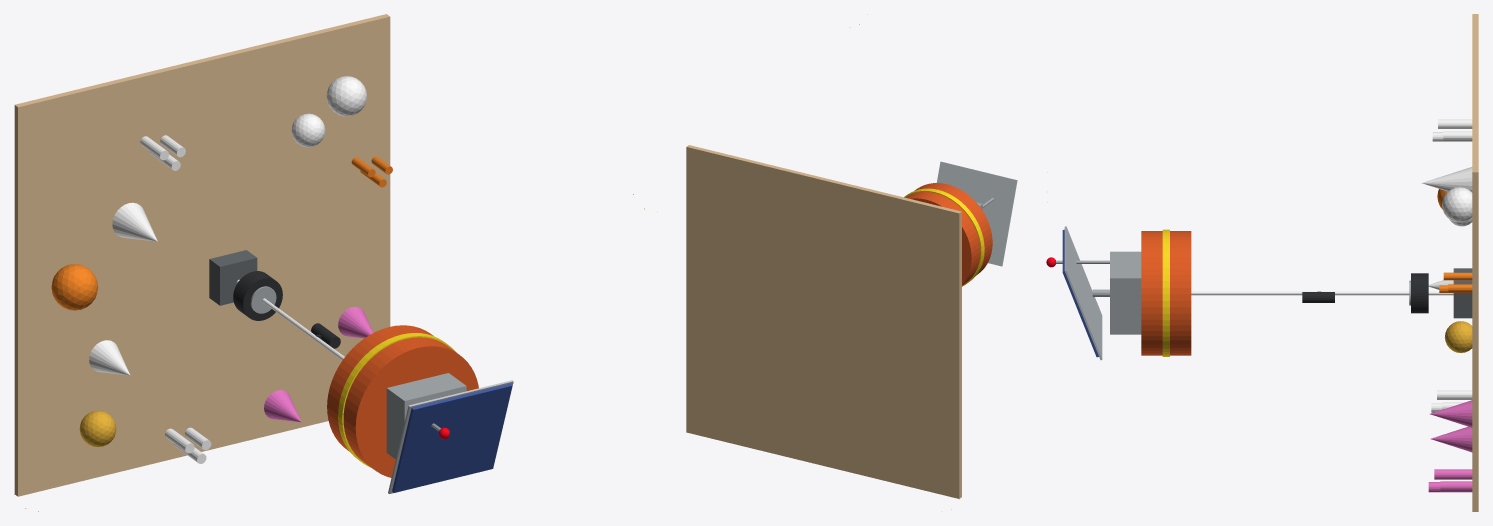
Rendered from tinker.obj.
3 renders of one model, left to right at view 1: azimuth 30°, elevation 25°; view 2: azimuth 150°, elevation 25°; view 3: azimuth 270°, elevation 25°, orthographic. The views are drawn at different scales.
Visible parts, largest first — view 1: obj_0, obj_9, obj_12, obj_1, obj_11, obj_3, obj_5, obj_7, obj_2, obj_10, obj_4, obj_13; view 2: obj_0, obj_13, obj_9, obj_10; view 3: obj_9, obj_0, obj_1, obj_11, obj_2, obj_13, obj_7, obj_6, obj_10, obj_4, obj_5, obj_3.
Part boxes in pixels (<box>): obj_0: <box>14,14,633,496</box>; obj_9: <box>327,325,478,477</box>; obj_12: <box>392,383,512,492</box>; obj_1: <box>38,76,657,511</box>; obj_11: <box>386,373,466,459</box>; obj_3: <box>25,156,644,508</box>; obj_5: <box>209,250,257,305</box>; obj_7: <box>233,271,340,348</box>; obj_2: <box>264,306,373,422</box>; obj_10: <box>338,333,456,467</box>; obj_4: <box>79,410,116,446</box>; obj_13: <box>388,380,513,493</box>; obj_0: <box>686,14,961,499</box>; obj_13: <box>936,161,1017,266</box>; obj_9: <box>905,183,992,285</box>; obj_10: <box>904,188,984,286</box>; obj_9: <box>1141,231,1191,355</box>; obj_0: <box>1047,14,1478,511</box>; obj_1: <box>1421,119,1472,412</box>; obj_11: <box>1110,251,1141,334</box>; obj_2: <box>1428,400,1472,492</box>; obj_13: <box>1064,226,1102,360</box>; obj_7: <box>1302,273,1428,313</box>; obj_6: <box>1191,291,1453,295</box>; obj_10: <box>1162,229,1169,356</box>; obj_4: <box>1445,321,1472,352</box>; obj_5: <box>1453,268,1472,318</box>; obj_3: <box>1437,189,1472,292</box>.
Bounding box in the file's own units: 320 × 318 × 346.
